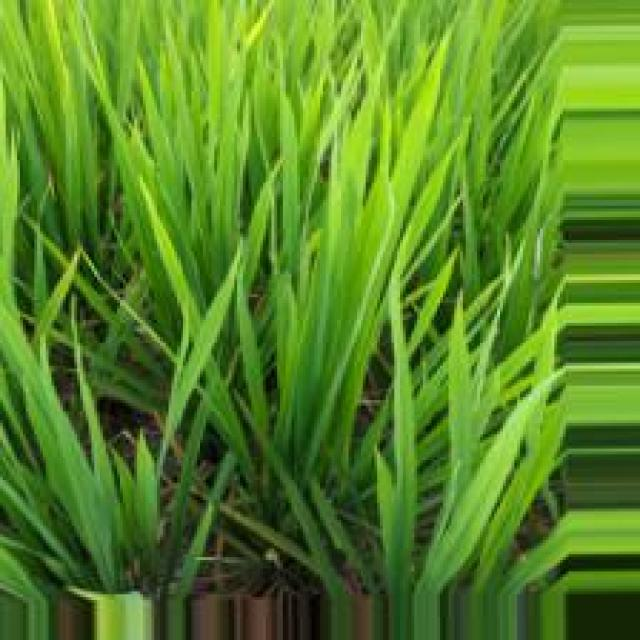HealthyLeaf: (331, 0, 414, 275), (157, 12, 220, 250)
